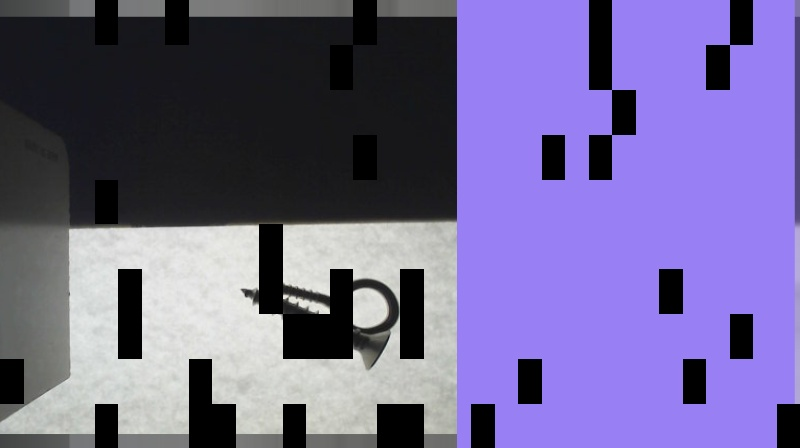O001: (261, 276, 401, 334)
S001: (240, 285, 392, 369)
